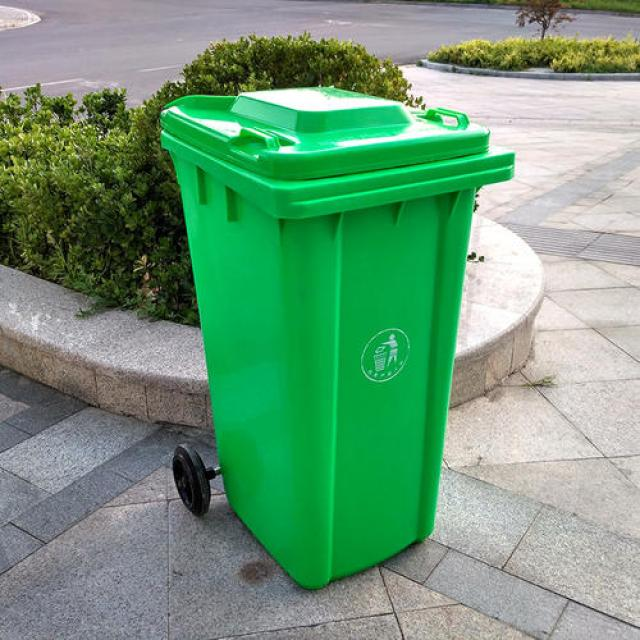garbage_bin: (162, 86, 514, 586)
